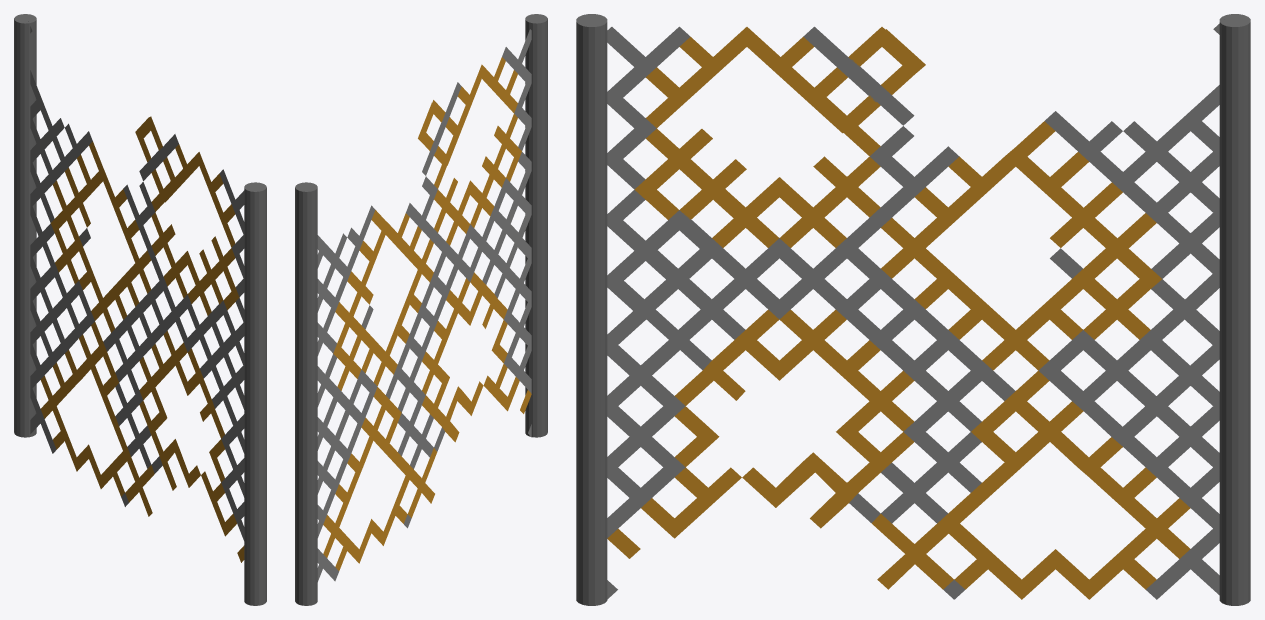
Rendered from fence2.glb.
The picture shows the model from 3 angles, left to right: view 1: azimuth 30°, elevation 25°; view 2: azimuth 150°, elevation 25°; view 3: azimuth 270°, elevation 25°; orthographic projection. The views are drawn at different scales.
Parts seen in each view (by area): view 1: Grid.001; view 2: Grid.001; view 3: Grid.001.
Part boxes in pixels (<box>): Grid.001: <box>14,14,266,605</box>; Grid.001: <box>295,14,547,605</box>; Grid.001: <box>576,14,1250,605</box>.
Bounding box in the file's own units: 0.2205 × 4.55 × 4.78.
Materials: 1 (1 with a texture image).
